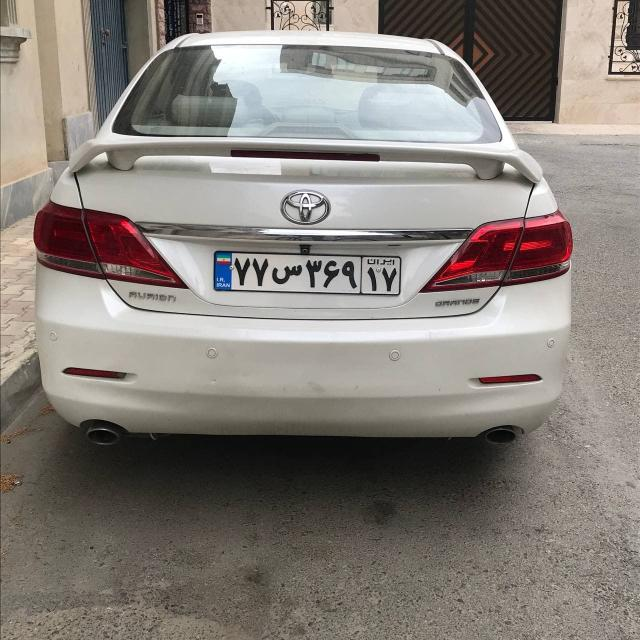Plates: (213, 252, 401, 294)
